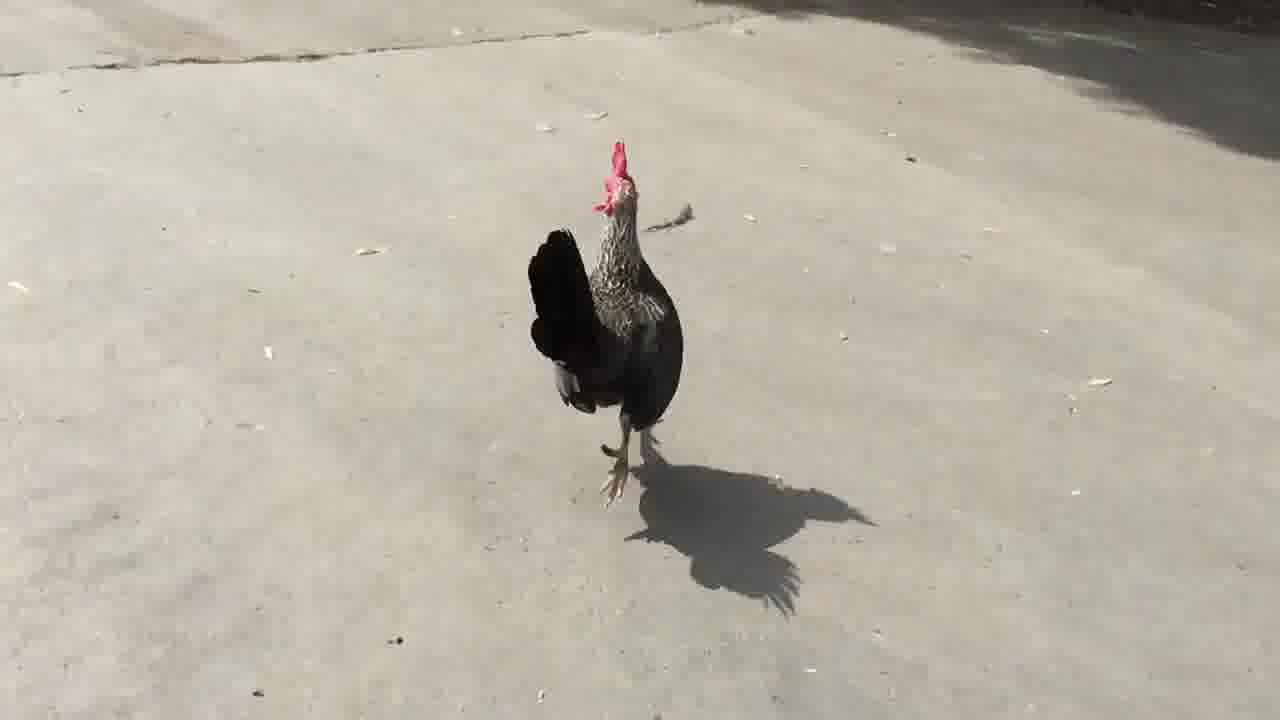Normal: (522, 130, 704, 498)
